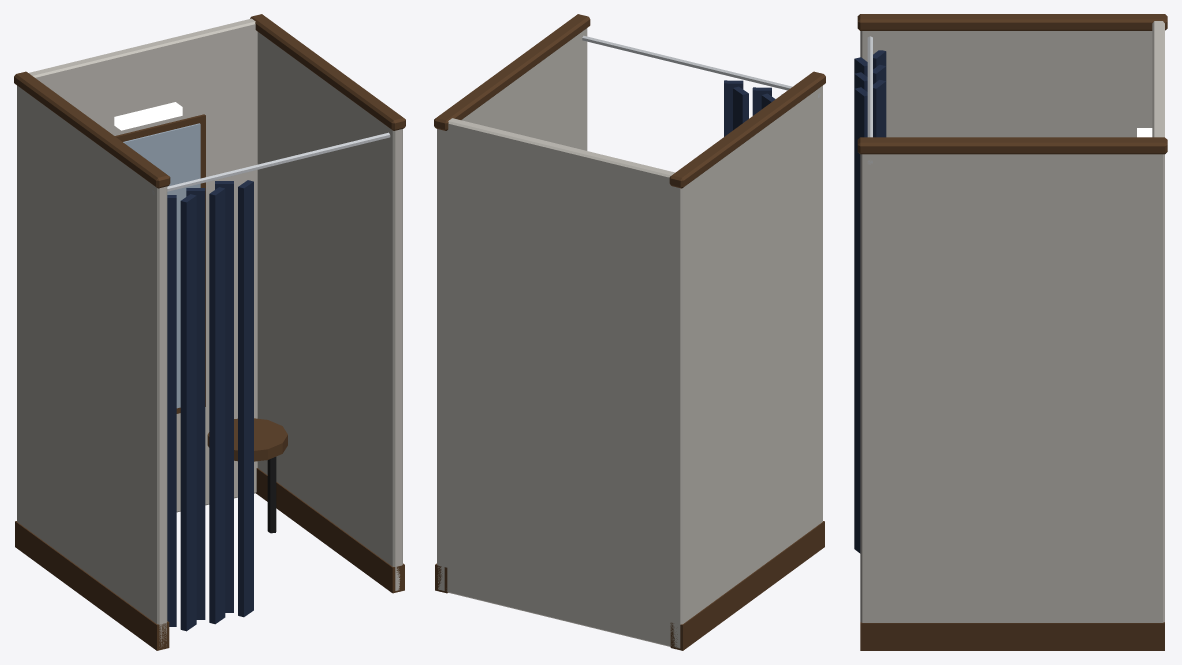
File: changing_booth.glb
3 renders of one model, left to right at view 1: azimuth 30°, elevation 25°; view 2: azimuth 150°, elevation 25°; view 3: azimuth 270°, elevation 25°, orthographic. The views are drawn at different scales.
Parts seen in each view (by area): view 1: changing_booth; view 2: changing_booth; view 3: changing_booth.
Part boxes in pixels (x1,y1,x2,y2): changing_booth: (14,14,405,650); changing_booth: (434,14,825,650); changing_booth: (854,14,1167,650).
Bounding box in the file's own units: 1.22 × 2.21 × 1.23.
